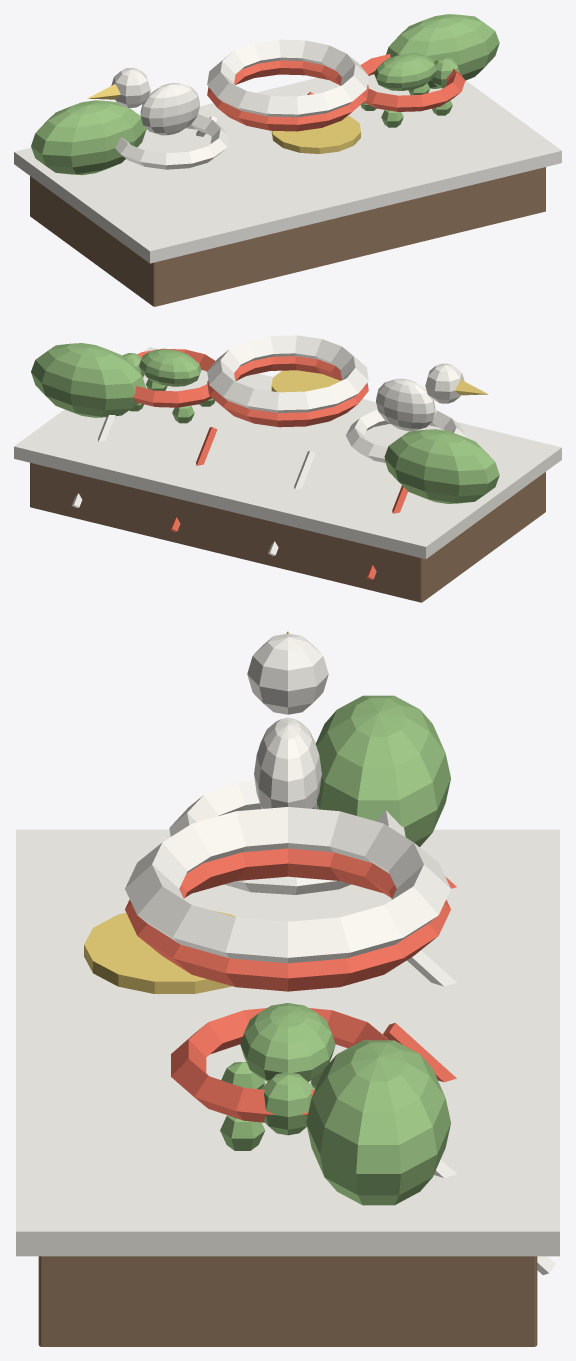
The model's file is mizuhiki_ornament.glb.
The picture shows the model from 3 angles, top to bottom: view 1: azimuth 30°, elevation 25°; view 2: azimuth 150°, elevation 25°; view 3: azimuth 270°, elevation 25°; orthographic projection. The views are drawn at different scales.
Parts seen in each view (by area): view 1: mizuhiki_ornament; view 2: mizuhiki_ornament; view 3: mizuhiki_ornament.
Boxes of the visible parts, box(x1,y1,x2,y2) form: mizuhiki_ornament: box(14, 14, 561, 306); mizuhiki_ornament: box(14, 335, 561, 602); mizuhiki_ornament: box(16, 631, 559, 1346).
Size of the model in its own units: 0.4665 by 0.178 by 0.24.
